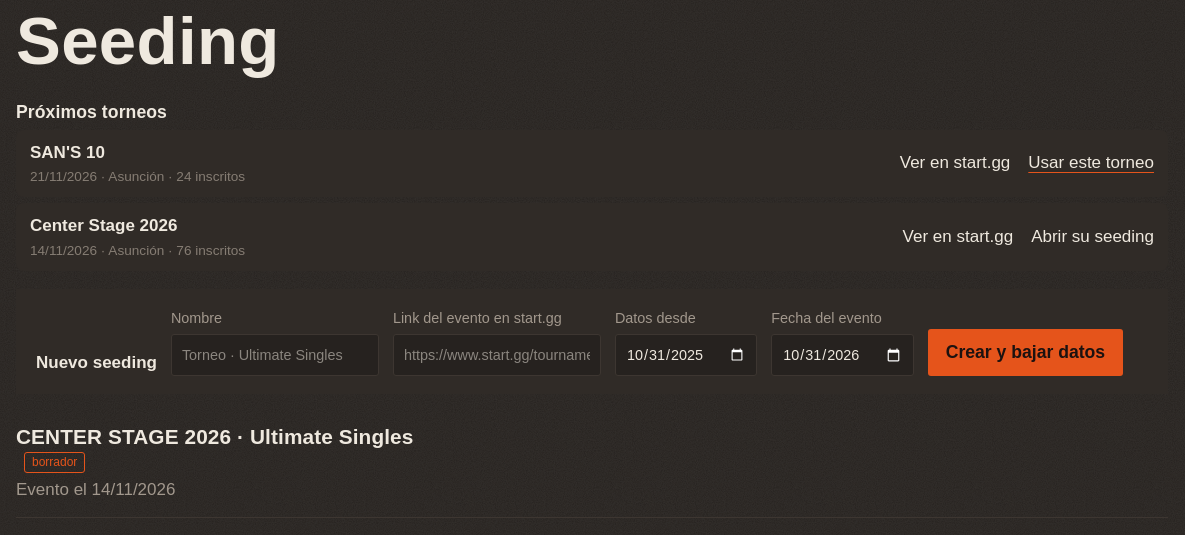
fills the new seeding from an upcoming start.gg tournament
The width and height of the screenshot is (1185, 535).
Click the button "Usar este torneo" at [1091, 164], box [1028,150,1154,177]
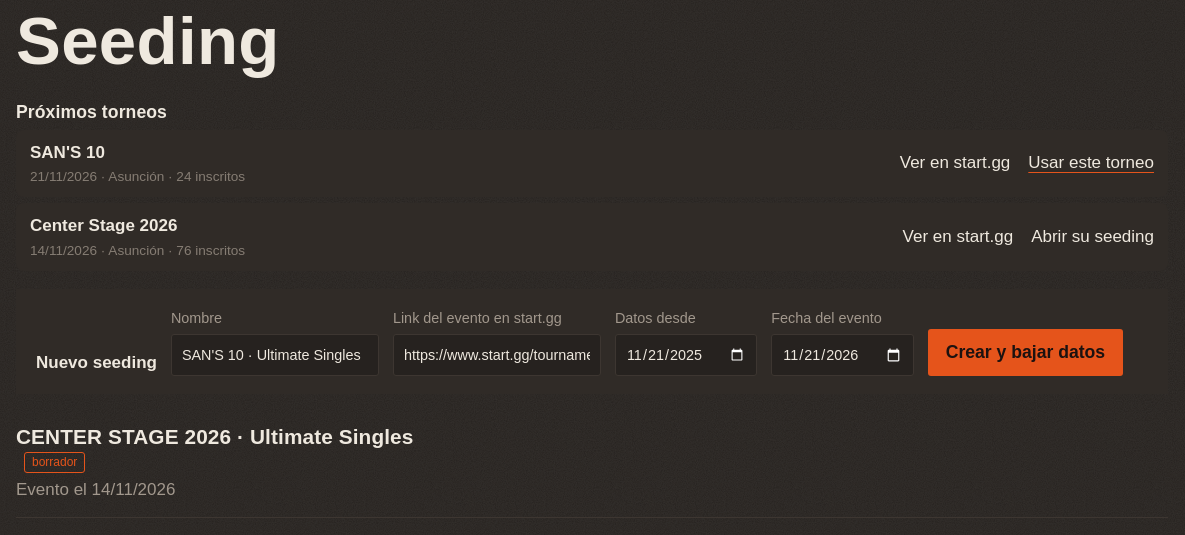
Result: the field labelled "Nombre" holds "SAN'S 10 · Ultimate Singles" at [171,334,379,376]
Result: the field labelled "Link del evento en start.gg" holds "https://www.start.gg/tournament/san-s-10-2026/event/ultimate-singles" at [393,334,601,376]
Result: the date field labelled "Fecha del evento" holds "2026-11-21" at [771,334,914,376]
